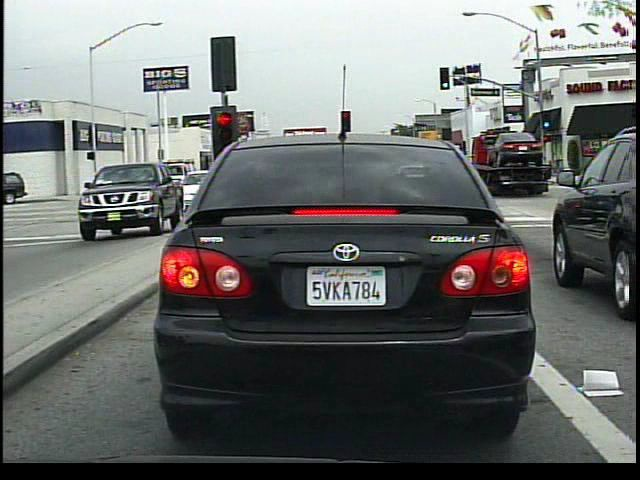person: (175, 169, 196, 195)
